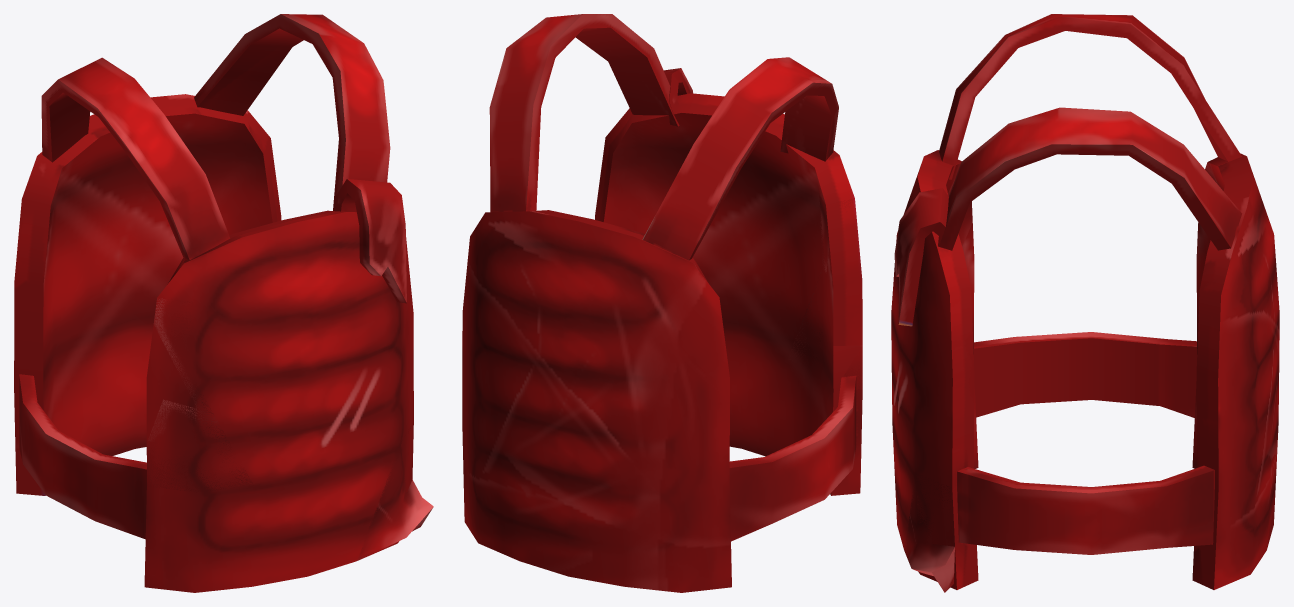
File: Zombie_ChestArmor.fbx
3 views of the same model, side by side, from view 1: azimuth 30°, elevation 25°; view 2: azimuth 150°, elevation 25°; view 3: azimuth 270°, elevation 25° (orthographic).
Visible parts, largest first — view 1: Chest-Full, Chest-Half; view 2: Chest-Full, Chest-Half; view 3: Chest-Full, Chest-Half.
Boxes of the visible parts, box(x1,y1,x2,y2) form: Chest-Full: box(14, 14, 413, 592); Chest-Half: box(146, 179, 433, 560); Chest-Full: box(462, 14, 862, 592); Chest-Half: box(663, 68, 862, 391); Chest-Full: box(891, 14, 1279, 589); Chest-Half: box(894, 188, 972, 592).
Size of the model in its own units: 0.3782 by 0.3844 by 0.5111.
